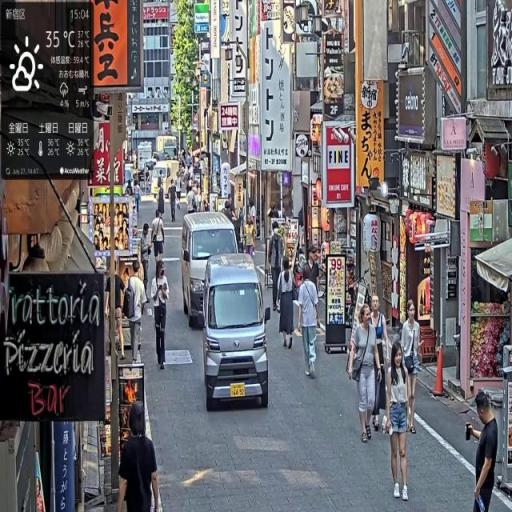person: (116, 400, 163, 512), (348, 303, 382, 448), (470, 388, 499, 512), (368, 294, 390, 430), (402, 300, 423, 436), (298, 267, 321, 380), (124, 263, 148, 366), (152, 260, 171, 371), (277, 256, 297, 351)
